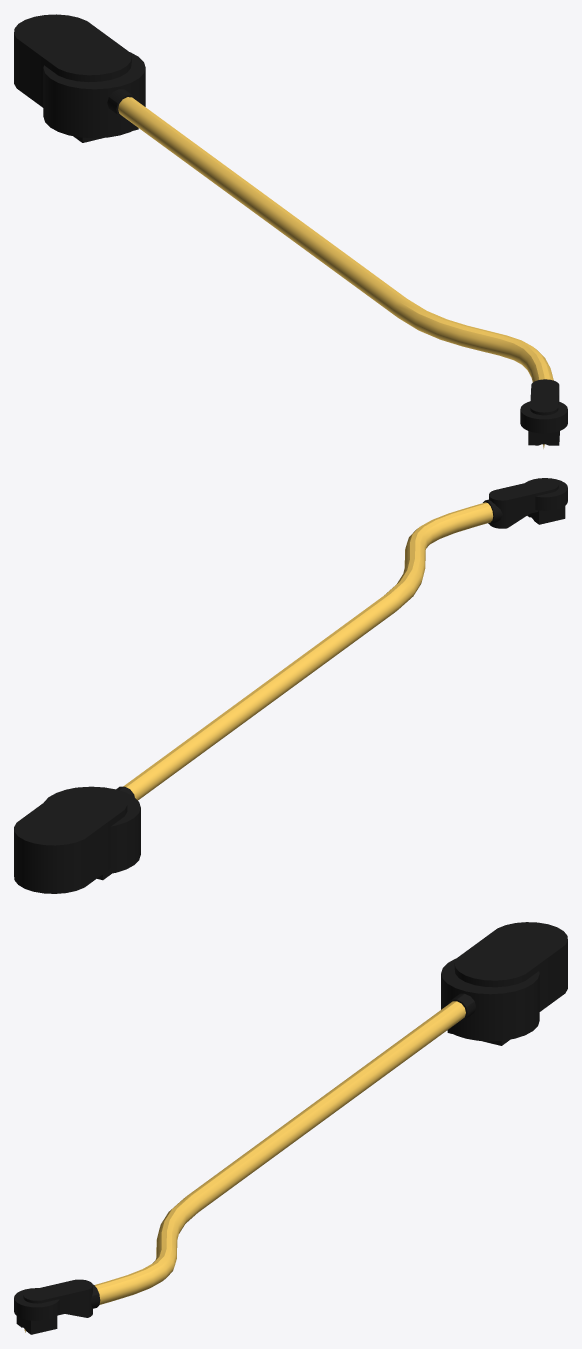
Rendered from GB_Arm_A.glb.
The picture shows the model from 3 angles, top to bottom: view 1: azimuth 30°, elevation 25°; view 2: azimuth 150°, elevation 25°; view 3: azimuth 330°, elevation 25°; orthographic projection. The views are drawn at different scales.
Parts seen in each view (by area): view 1: GB_Arm_A; view 2: GB_Arm_A; view 3: GB_Arm_A.
Boxes of the visible parts, x1,y1,x2,y2 form: GB_Arm_A: (14,14,567,448); GB_Arm_A: (14,478,567,893); GB_Arm_A: (14,922,567,1334).
Bounding box in the file's own units: 0.0211 × 0.0131 × 0.1983.
